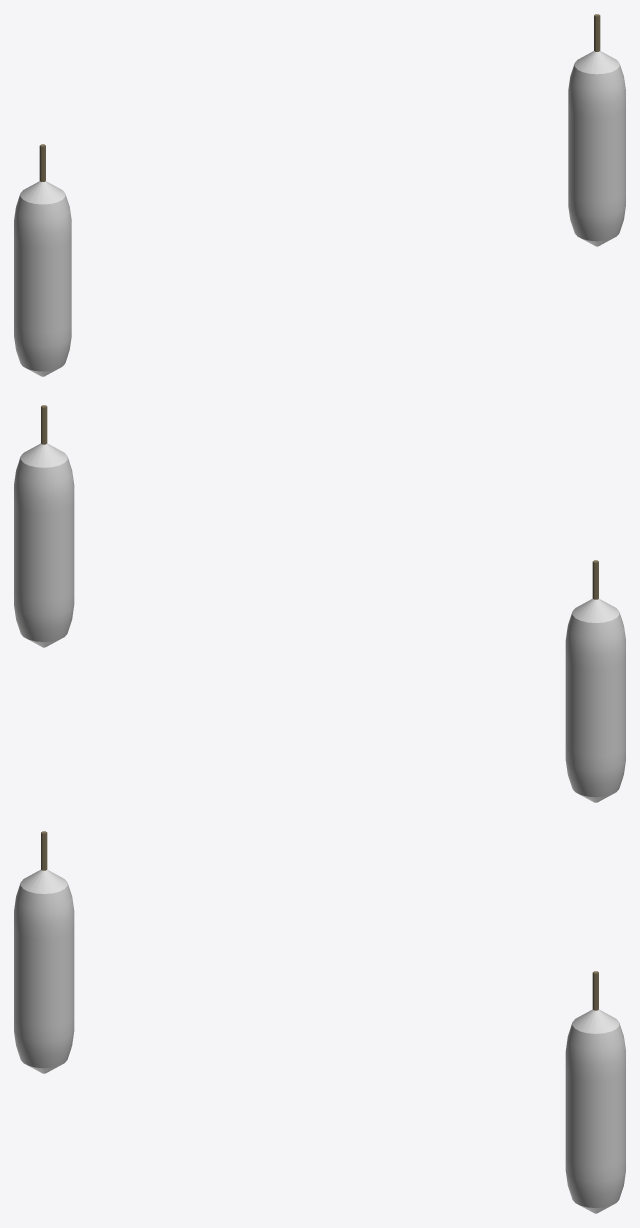
Rendered from Fenders.glb.
The picture shows the model from 3 angles, top to bottom: view 1: azimuth 30°, elevation 25°; view 2: azimuth 150°, elevation 25°; view 3: azimuth 330°, elevation 25°; orthographic projection. The views are drawn at different scales.
Visible parts, largest first — view 1: Fenders; view 2: Fenders; view 3: Fenders.
Boxes of the visible parts, x1=… form: Fenders: x1=14, y1=14, x2=625, y2=376; Fenders: x1=14, y1=405, x2=625, y2=802; Fenders: x1=14, y1=831, x2=625, y2=1213.
Bounding box in the file's own units: 1.75 × 0.6708 × 0.2126.
